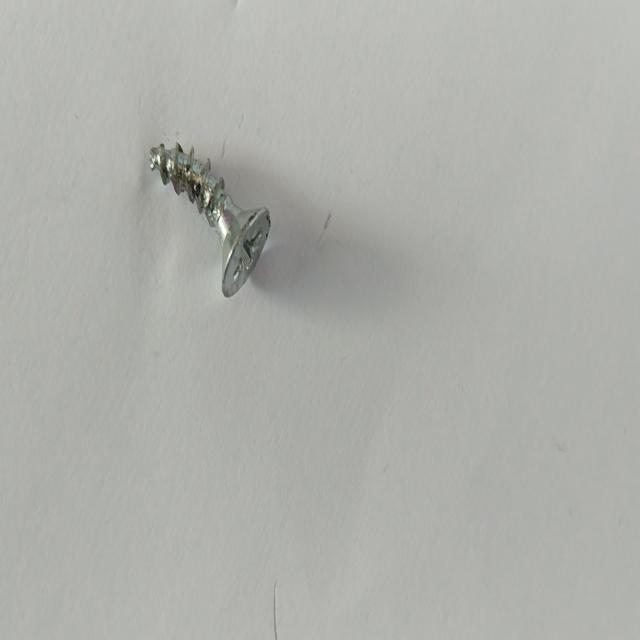Screw: (149, 142, 270, 296)
